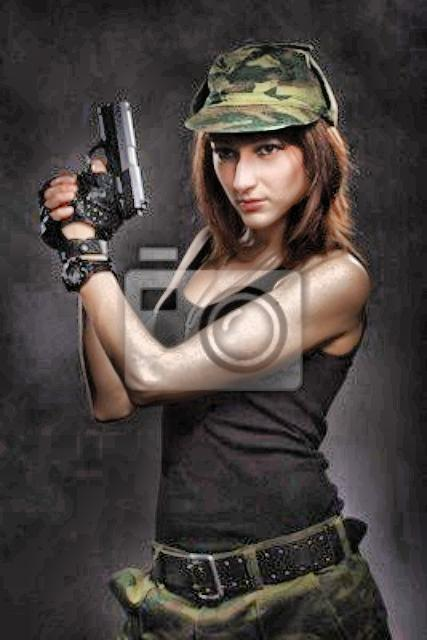pistol: (62, 95, 150, 229)
